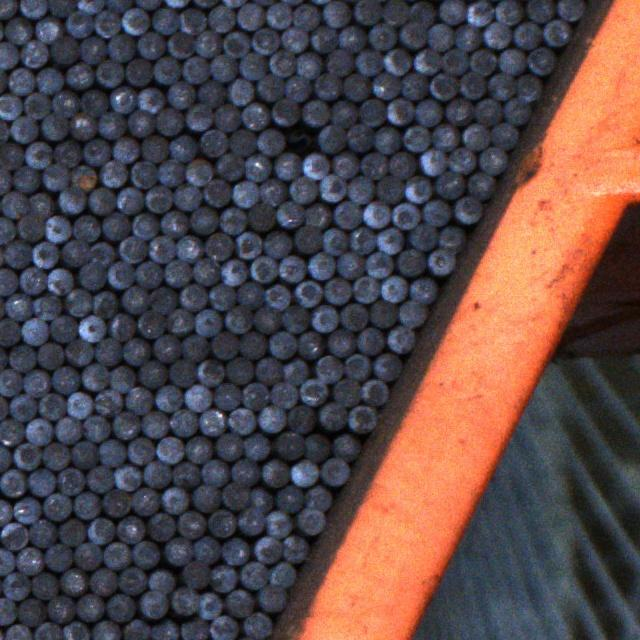tool: (221, 480, 250, 510), (501, 96, 530, 125), (314, 354, 343, 383), (320, 457, 349, 485), (296, 506, 325, 534), (320, 0, 349, 28), (375, 175, 404, 203), (1, 190, 30, 218), (293, 224, 322, 252), (408, 222, 437, 250), (172, 461, 201, 489), (19, 317, 48, 345), (396, 300, 427, 326), (258, 582, 286, 610), (236, 2, 264, 30), (80, 90, 108, 118), (445, 97, 473, 125), (447, 147, 475, 175), (346, 176, 374, 204), (306, 252, 334, 280), (336, 252, 364, 280), (18, 266, 46, 294), (124, 386, 152, 414), (136, 310, 164, 338), (153, 334, 181, 362), (254, 358, 282, 386), (257, 404, 285, 432), (154, 384, 182, 412), (169, 408, 197, 436), (201, 458, 229, 486), (160, 486, 188, 514), (180, 560, 208, 588), (224, 588, 252, 616), (106, 593, 134, 621), (4, 292, 32, 320), (51, 366, 79, 394), (12, 442, 40, 470), (27, 468, 55, 496), (12, 496, 40, 524), (43, 492, 71, 520), (72, 491, 100, 519), (0, 522, 28, 550), (116, 515, 144, 543), (263, 510, 291, 538), (102, 542, 130, 570), (59, 568, 87, 596), (17, 598, 45, 626), (477, 147, 506, 174), (214, 433, 243, 460), (289, 459, 318, 486), (48, 314, 77, 341), (22, 368, 49, 397), (93, 389, 122, 416), (275, 485, 304, 512), (253, 535, 280, 564), (15, 546, 42, 575), (164, 308, 194, 334), (145, 514, 175, 540), (542, 19, 570, 46), (526, 47, 554, 74), (454, 195, 481, 223), (372, 353, 400, 380), (347, 405, 375, 432), (66, 10, 93, 38), (121, 6, 148, 34), (454, 24, 482, 51), (20, 40, 47, 68), (51, 35, 78, 63), (182, 56, 209, 84), (399, 72, 426, 100), (316, 125, 344, 152), (474, 98, 501, 126), (345, 124, 372, 152), (402, 125, 430, 152), (462, 123, 489, 151), (23, 141, 51, 168), (140, 135, 168, 162), (362, 200, 389, 228), (273, 152, 301, 179), (288, 175, 316, 202), (276, 200, 303, 228), (333, 201, 361, 228), (247, 203, 275, 230), (12, 166, 40, 193), (62, 240, 90, 267), (78, 262, 105, 290), (118, 236, 146, 263), (204, 233, 232, 260), (234, 231, 262, 258), (134, 260, 162, 287), (94, 336, 121, 364), (140, 409, 167, 437), (208, 509, 235, 537), (240, 560, 267, 588), (236, 282, 264, 309), (367, 300, 395, 327), (310, 304, 337, 332), (280, 305, 308, 332), (326, 329, 354, 356), (238, 332, 266, 359), (210, 332, 238, 359), (181, 334, 209, 361), (332, 378, 359, 406), (299, 378, 327, 405), (318, 402, 346, 429), (286, 405, 314, 432), (225, 357, 253, 384), (240, 382, 268, 409), (198, 408, 225, 436), (228, 406, 255, 434), (184, 436, 212, 463), (231, 459, 259, 486), (178, 511, 206, 538), (192, 535, 219, 563), (139, 590, 166, 618), (117, 567, 145, 594), (8, 393, 36, 420), (24, 418, 52, 445), (42, 442, 70, 469), (70, 440, 97, 468), (98, 439, 125, 467), (130, 488, 158, 515), (102, 489, 130, 516), (29, 518, 56, 546), (44, 543, 71, 571), (2, 572, 29, 600), (89, 568, 116, 596), (76, 593, 103, 621), (425, 24, 454, 50), (428, 74, 457, 100), (373, 125, 399, 154), (398, 248, 424, 277), (78, 36, 105, 63), (136, 32, 163, 59), (368, 22, 395, 49), (125, 59, 152, 86), (210, 54, 237, 81), (314, 73, 341, 100), (9, 116, 36, 143), (240, 102, 267, 129), (436, 171, 463, 198), (157, 159, 184, 186), (243, 154, 270, 181), (41, 163, 68, 190), (189, 207, 216, 234), (175, 235, 202, 262), (164, 259, 191, 286), (77, 314, 104, 341), (121, 285, 148, 312), (302, 434, 329, 461), (213, 382, 240, 409), (184, 384, 211, 411), (81, 363, 108, 390), (54, 417, 81, 444), (113, 464, 140, 491), (47, 595, 74, 622), (488, 123, 516, 149), (466, 172, 494, 198), (359, 379, 387, 405), (331, 434, 359, 460), (514, 22, 540, 50), (482, 22, 510, 48), (251, 28, 279, 54), (440, 48, 468, 74), (431, 123, 457, 151), (200, 130, 228, 156), (228, 130, 256, 156), (256, 130, 284, 156), (418, 148, 446, 174), (422, 200, 450, 226), (319, 173, 345, 201), (184, 159, 212, 185), (216, 154, 244, 180), (259, 178, 285, 206), (160, 210, 186, 238), (16, 213, 42, 241), (148, 235, 174, 263), (263, 231, 291, 257), (365, 252, 393, 278), (156, 436, 182, 464), (108, 312, 134, 340), (292, 280, 320, 306), (356, 327, 382, 355), (275, 432, 303, 458), (144, 460, 170, 488), (65, 340, 93, 366), (66, 391, 92, 419), (57, 467, 83, 495), (242, 612, 271, 637), (524, 0, 554, 24), (427, 248, 454, 274), (409, 277, 436, 303), (280, 536, 307, 562), (269, 562, 296, 588), (4, 18, 31, 44), (94, 10, 120, 37), (178, 8, 205, 34), (107, 35, 134, 61), (153, 57, 179, 84), (238, 52, 264, 79), (355, 49, 382, 75), (384, 48, 410, 75), (52, 90, 79, 116), (110, 87, 136, 114), (227, 78, 253, 105), (82, 139, 109, 165), (169, 135, 195, 162), (404, 176, 431, 202), (100, 160, 126, 187), (219, 208, 246, 234), (88, 188, 114, 215), (116, 187, 143, 213), (43, 216, 70, 242), (73, 215, 99, 242), (102, 212, 129, 238), (131, 213, 158, 239), (173, 182, 200, 208), (3, 240, 30, 266), (107, 261, 133, 288), (376, 227, 402, 254), (192, 258, 219, 284), (250, 256, 277, 282), (64, 289, 90, 316), (192, 484, 218, 511), (148, 287, 175, 313), (178, 284, 205, 310), (194, 308, 220, 335), (224, 306, 250, 333), (253, 306, 279, 333), (352, 276, 379, 302), (380, 275, 406, 302), (340, 303, 366, 330), (298, 332, 324, 359), (269, 332, 296, 358), (122, 338, 148, 365), (343, 353, 370, 379), (169, 360, 196, 386), (243, 433, 270, 459), (262, 459, 288, 486), (163, 538, 190, 564), (209, 564, 236, 590), (132, 540, 158, 567), (170, 587, 197, 613), (36, 342, 62, 369), (38, 393, 65, 419), (112, 412, 139, 438), (86, 466, 113, 492), (87, 518, 114, 544), (74, 542, 100, 569), (34, 17, 62, 42), (409, 0, 434, 28), (498, 49, 526, 74), (330, 100, 355, 128), (413, 100, 441, 125), (203, 180, 231, 205), (70, 164, 95, 192), (32, 294, 60, 319), (0, 468, 25, 496), (514, 75, 540, 101), (438, 225, 464, 251), (152, 8, 178, 34), (208, 6, 234, 32), (266, 2, 292, 28), (292, 4, 318, 30), (382, 0, 408, 26), (466, 0, 492, 26), (194, 30, 220, 56), (280, 26, 306, 52), (338, 26, 364, 52), (399, 22, 425, 48), (66, 63, 92, 89), (96, 61, 122, 87), (269, 50, 295, 76), (413, 48, 439, 74), (24, 92, 50, 118), (168, 82, 194, 108), (372, 72, 398, 98), (488, 74, 514, 100), (156, 108, 182, 134), (186, 104, 212, 130), (302, 100, 328, 126), (386, 98, 412, 124), (54, 140, 80, 166), (112, 137, 138, 163), (392, 202, 418, 228), (360, 152, 386, 178), (302, 152, 328, 178), (232, 181, 258, 207), (32, 242, 58, 268), (348, 228, 374, 254), (220, 259, 246, 285), (278, 255, 304, 281), (222, 538, 248, 564), (270, 381, 296, 407), (139, 362, 165, 388), (128, 437, 154, 463), (83, 415, 109, 441), (59, 520, 85, 546), (237, 508, 263, 534), (387, 327, 414, 352), (304, 486, 331, 511), (494, 0, 521, 25), (222, 32, 249, 57), (310, 27, 337, 52), (69, 112, 94, 139), (145, 185, 170, 212), (89, 241, 114, 268), (109, 366, 134, 393), (208, 284, 235, 309), (323, 278, 350, 303), (209, 615, 236, 640), (8, 346, 35, 371), (354, 0, 380, 25), (167, 32, 193, 57), (36, 68, 61, 94), (326, 49, 351, 75), (138, 88, 164, 113), (198, 82, 224, 107), (284, 75, 310, 100), (344, 74, 369, 100), (460, 73, 485, 99), (98, 112, 123, 138), (358, 100, 384, 125), (388, 152, 413, 178), (332, 152, 357, 178), (130, 162, 156, 187), (59, 187, 84, 213), (28, 192, 53, 218), (91, 290, 116, 316), (264, 284, 289, 310), (282, 360, 308, 385), (196, 360, 222, 385), (31, 573, 56, 599), (438, 0, 465, 24), (322, 228, 346, 255), (48, 268, 72, 295), (197, 592, 221, 619), (0, 142, 23, 170), (180, 617, 208, 640), (0, 418, 23, 446), (214, 105, 239, 130), (272, 99, 297, 124), (8, 68, 32, 94), (296, 52, 320, 78), (470, 50, 496, 74), (40, 114, 66, 138), (128, 110, 152, 136), (303, 204, 329, 228), (258, 75, 282, 100), (148, 569, 173, 593), (122, 618, 149, 640), (150, 619, 178, 640), (0, 368, 21, 396), (250, 488, 272, 514), (556, 0, 584, 20), (92, 620, 119, 640), (18, 0, 46, 19), (0, 318, 19, 345), (0, 95, 21, 119), (34, 622, 62, 640), (63, 621, 89, 640), (46, 0, 76, 16), (0, 42, 17, 68), (0, 268, 17, 294), (4, 623, 30, 640), (0, 597, 16, 624), (0, 217, 14, 244), (0, 548, 14, 575), (75, 0, 104, 13), (105, 0, 132, 13), (0, 167, 11, 194), (0, 444, 11, 471), (0, 499, 11, 526), (0, 0, 15, 19)
tool_b: (280, 126, 320, 154)
